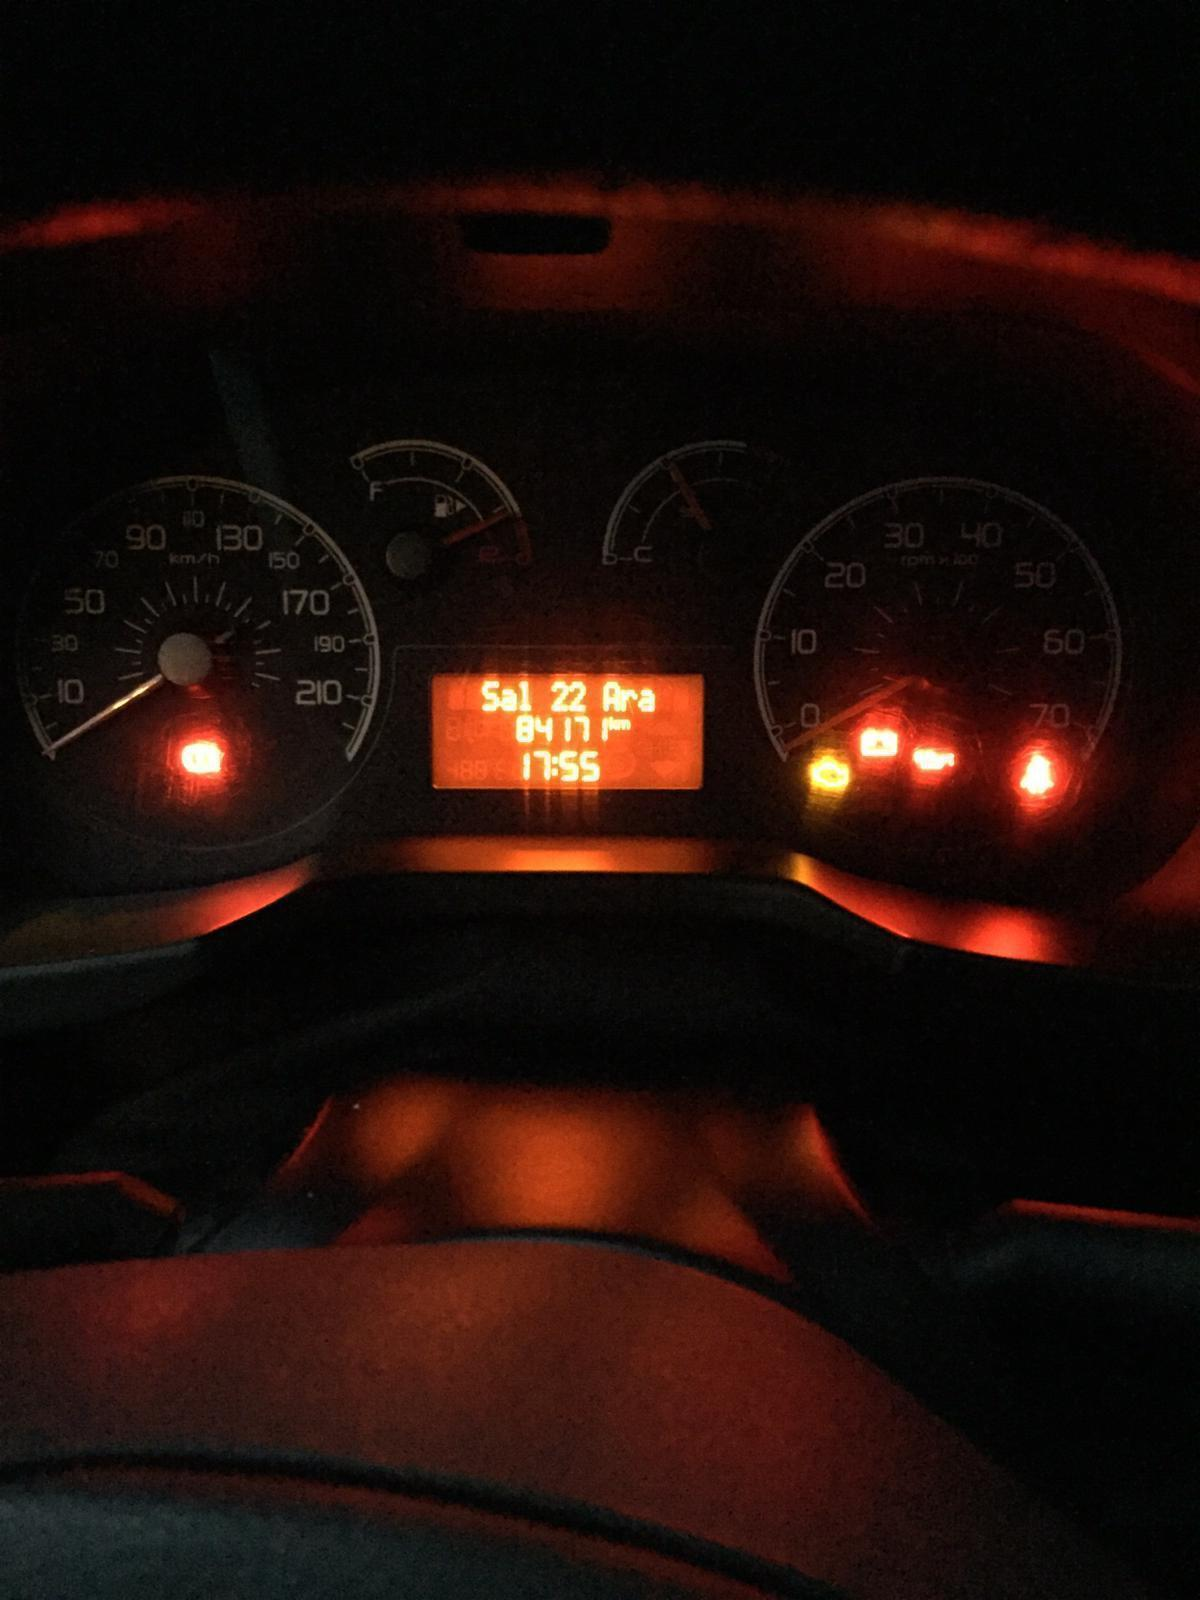1: (521, 747, 532, 782), (563, 714, 574, 743), (601, 716, 608, 747)
2: (568, 677, 590, 711), (550, 677, 568, 711)
4: (534, 713, 556, 742)
5: (579, 750, 601, 782), (558, 750, 579, 782)
7: (531, 747, 550, 782), (575, 713, 592, 741)
8: (516, 716, 533, 743)
X: (603, 680, 621, 712), (482, 679, 500, 711), (637, 685, 655, 716), (518, 679, 533, 711), (500, 687, 517, 712), (621, 687, 637, 712), (616, 718, 632, 729), (552, 753, 558, 780), (608, 716, 616, 729)
odometer: (426, 669, 708, 795)
